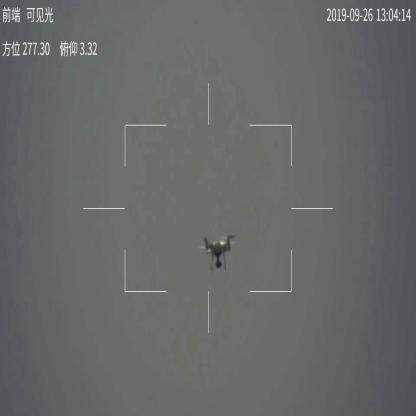uav: (194, 232, 236, 270)
